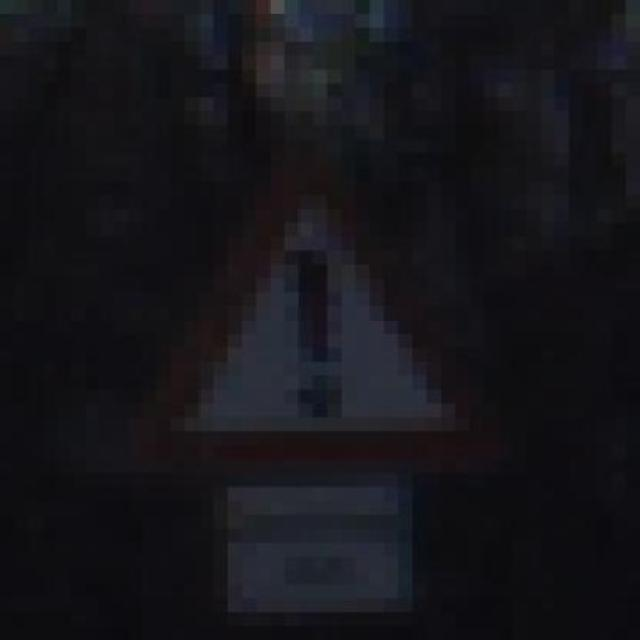Attention Please-: (71, 125, 526, 487)
